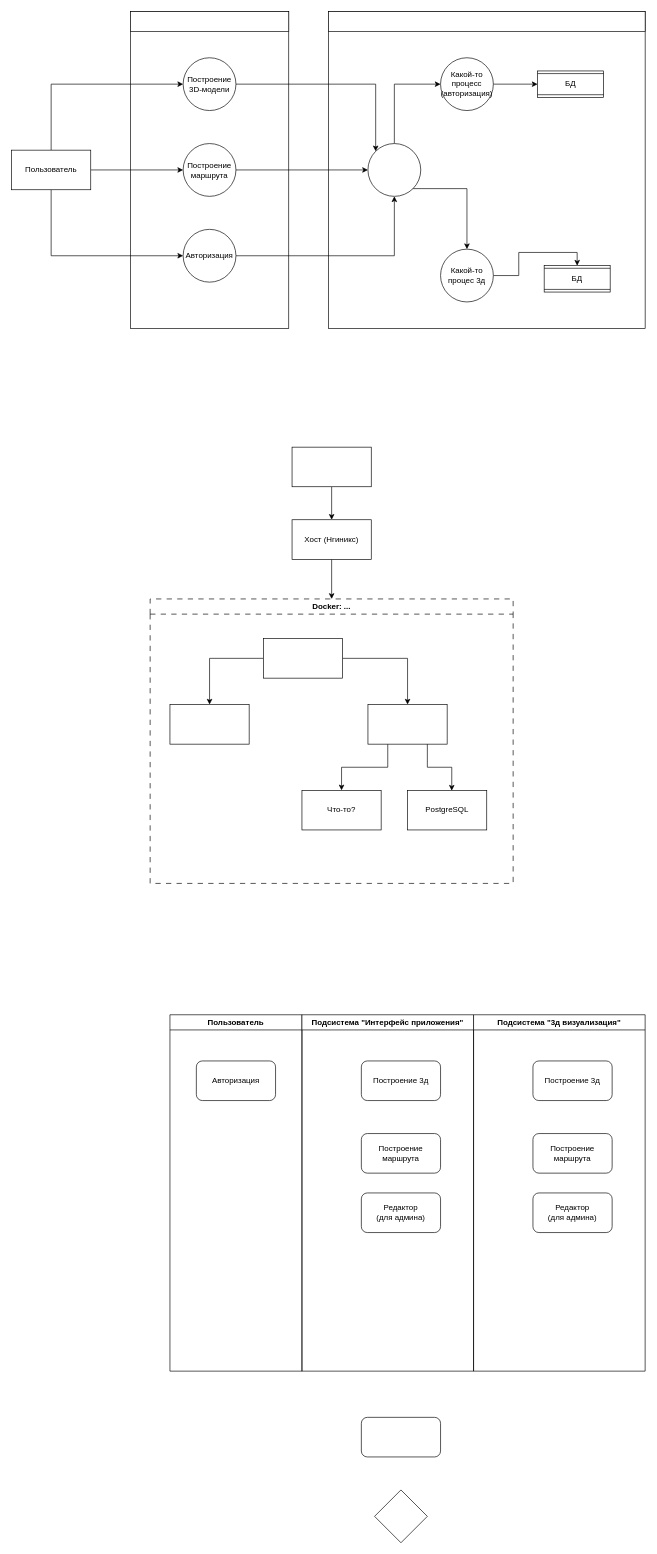
The diagram is 657 pixels wide and 1554 high, and some of its shapes have lost their labels. The shapes that lost their labels are listed below. From the top down, each one's centre as x and y in pixels, then its label:
At point (209, 21): "Клиентское приложение".
At point (486, 21): "Северное приложение".
At point (394, 169): "Какой-то процесс".
At point (331, 466): "Клиентский браузер".
At point (303, 658): "Нгиникс".
At point (209, 724): "Реакт?".
At point (407, 724): "Джанго?".
At point (401, 1437): "Проведение авторизации".
